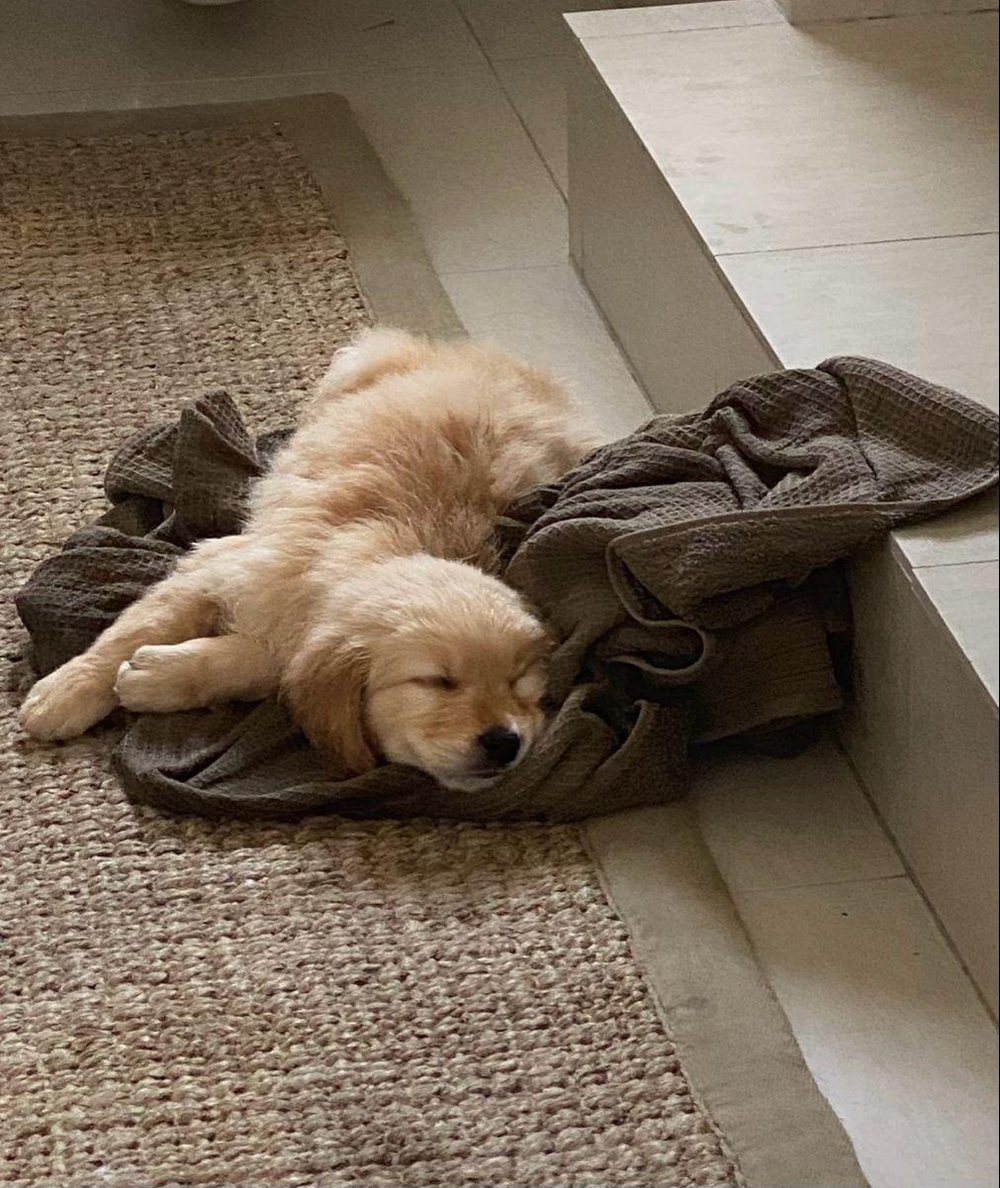puppy-dog: (17, 323, 585, 794)
